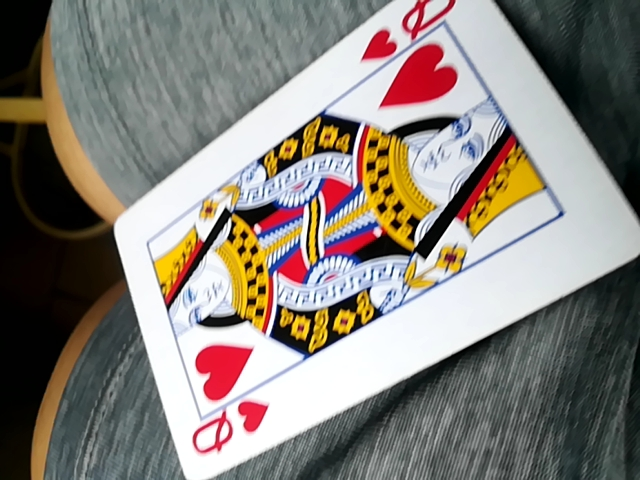hx q: (108, 0, 634, 479)
